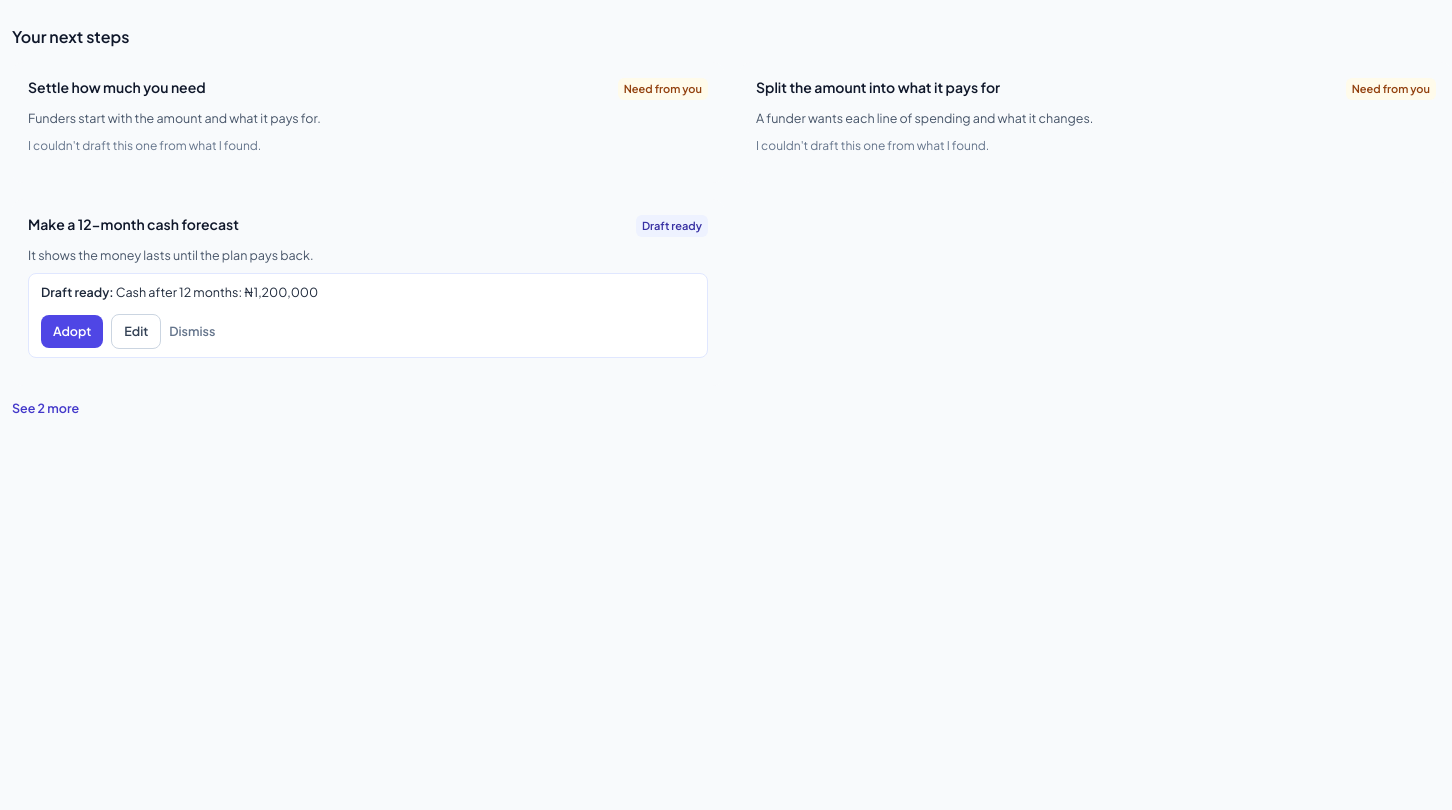
Test: the other steps (the owner, 20 Oct) › are one press away, as cards with their drafts
Check: the number of list items is 3, box [12, 62, 724, 183]; [740, 62, 1451, 183]; [12, 199, 724, 386]
Step 1. Click the button "See 2 more" → (46, 408), box [12, 398, 79, 418]
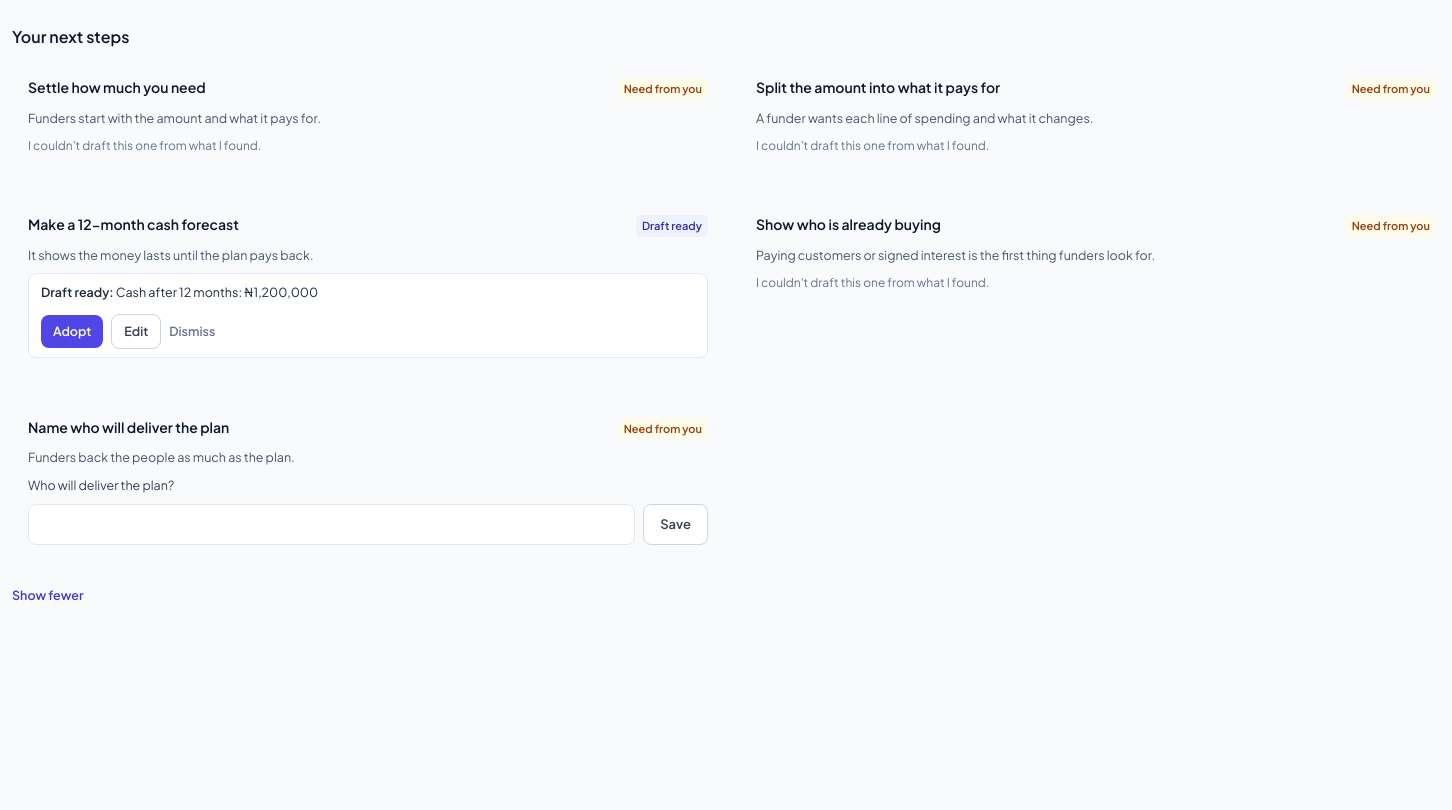
Check: the number of list items is 5, box [12, 62, 724, 183]; [740, 62, 1451, 183]; [12, 199, 724, 386]; [740, 199, 1451, 386]; [12, 402, 724, 572]
Check: the form is shown, box [28, 475, 708, 544]
